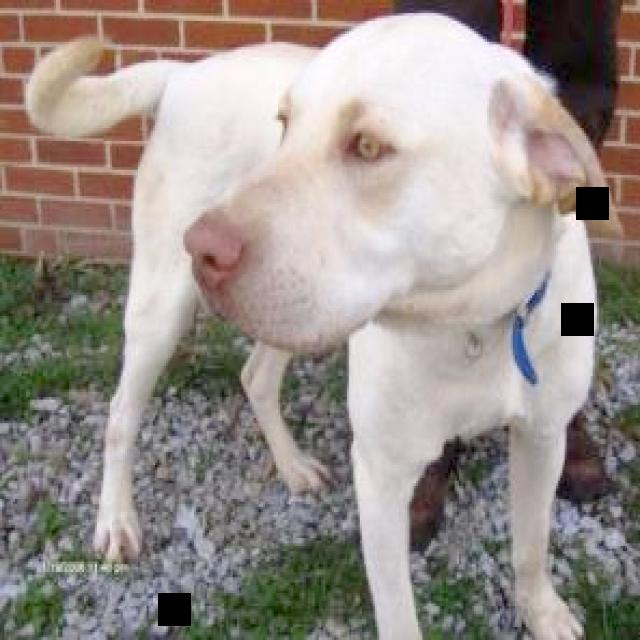adult_dog: (16, 11, 614, 640)
